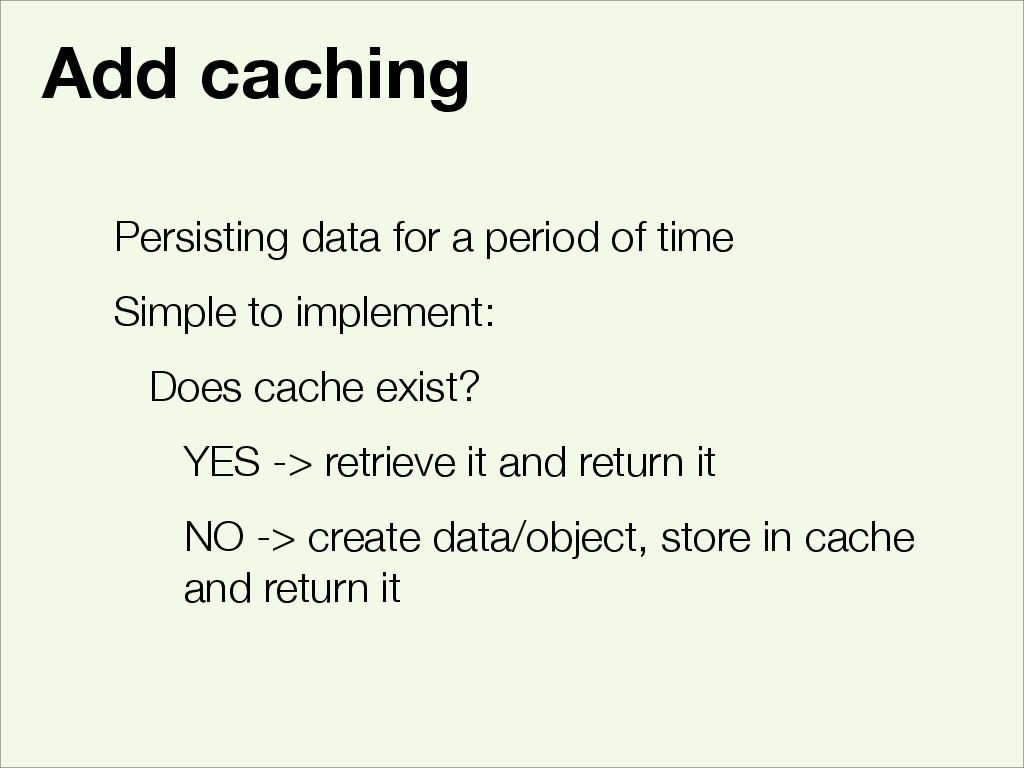paragraph: (105, 207, 934, 611)
title: (35, 23, 478, 120)
